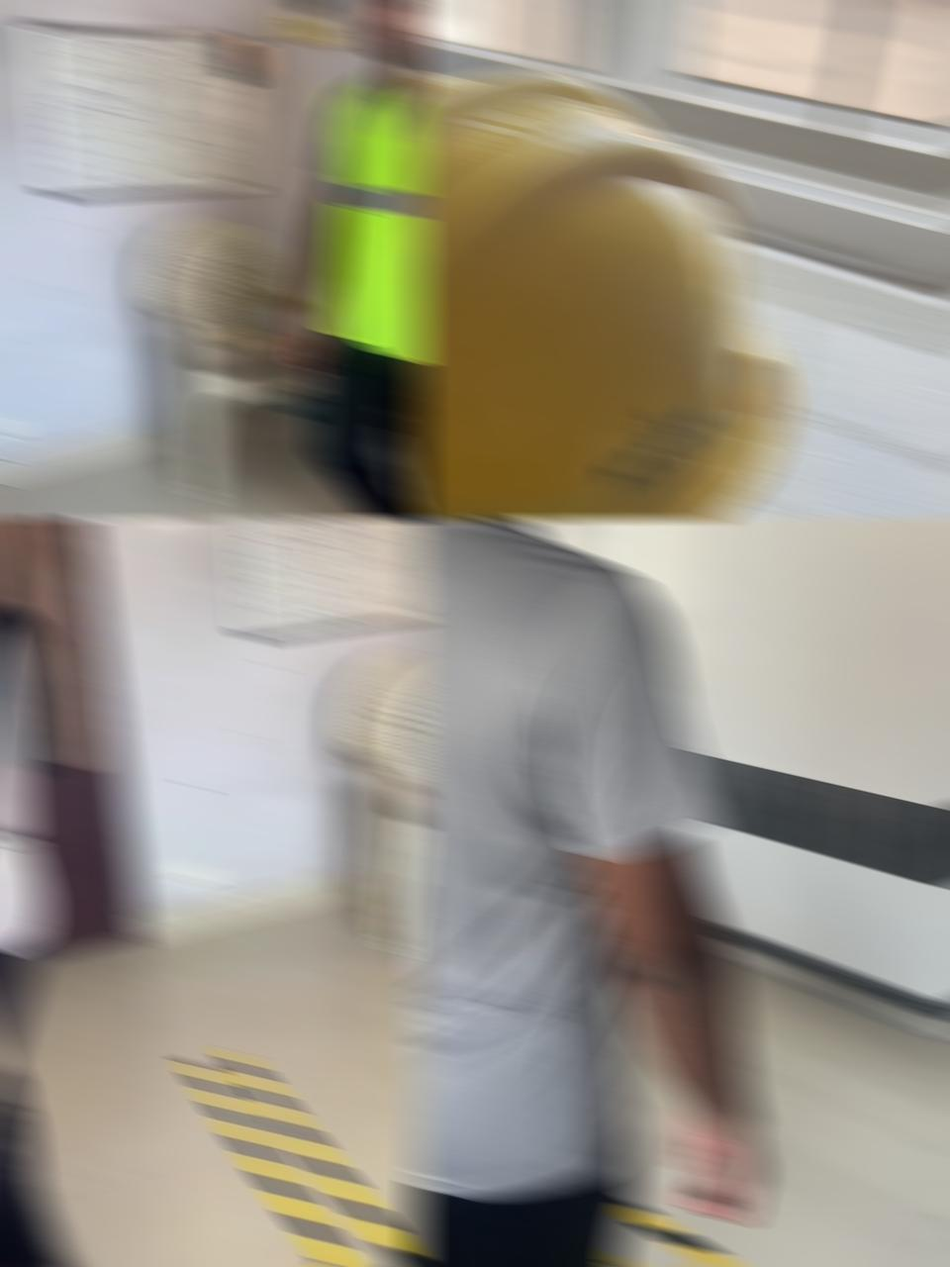BorderLine: (179, 1047, 426, 1267), (607, 1196, 934, 1267)
Helmet: (410, 65, 792, 520)
No_Helmet: (359, 0, 426, 67)
No_Vest: (410, 517, 728, 1199), (0, 517, 51, 970)
Person: (410, 517, 765, 1267), (284, 0, 426, 520), (0, 517, 96, 1267)
Vest: (319, 54, 426, 362)
